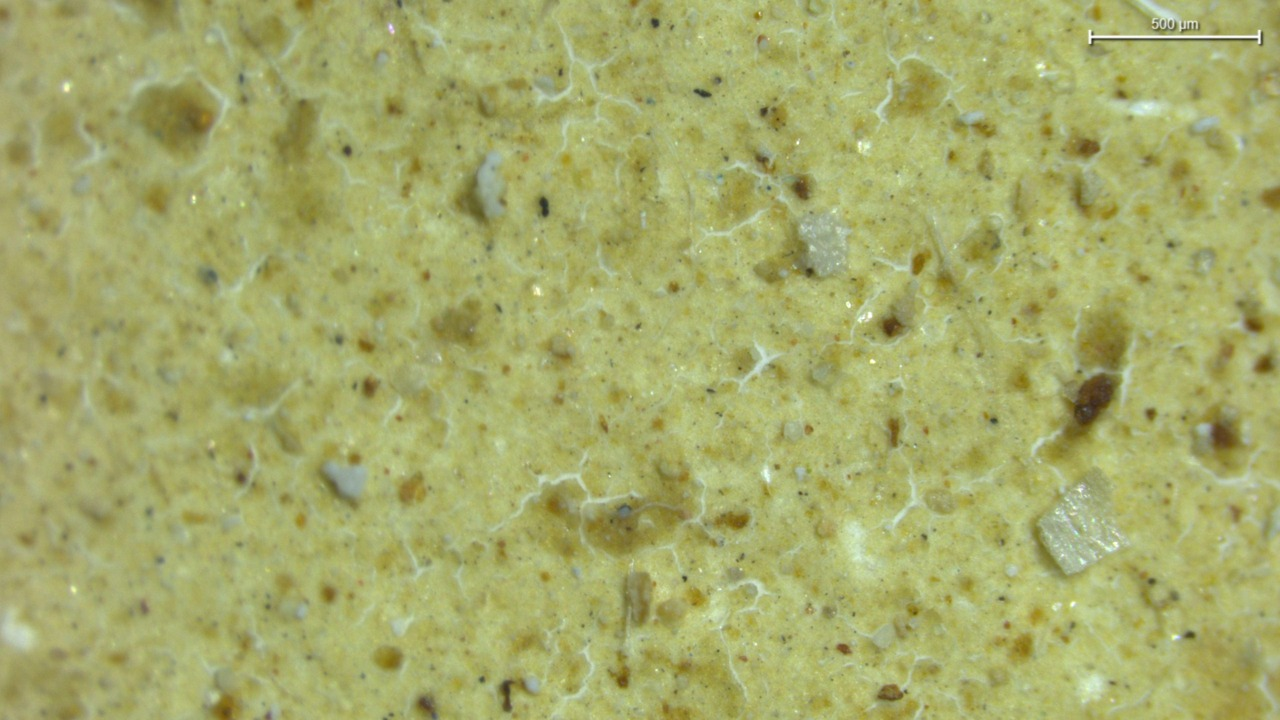microplastic_fragment: (1037, 470, 1129, 574), (797, 212, 850, 277), (474, 151, 505, 219), (321, 461, 367, 501)
